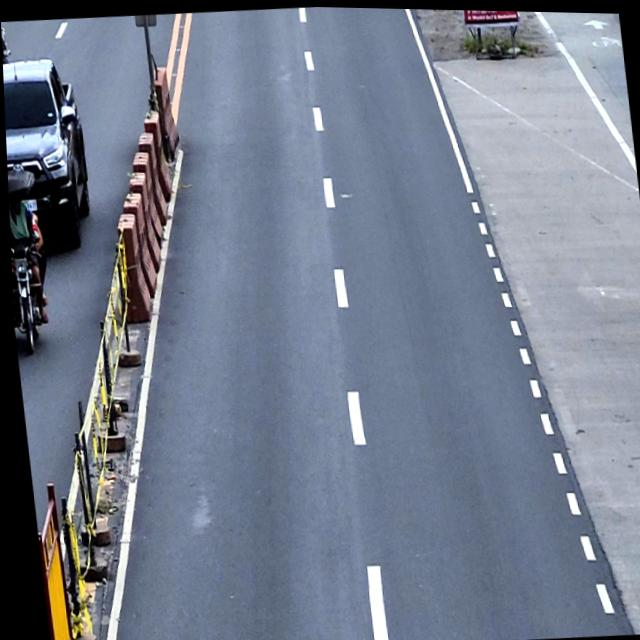Car: (2, 53, 96, 260)
License-Plate: (17, 198, 36, 211)
Tricycle: (6, 166, 54, 358)
